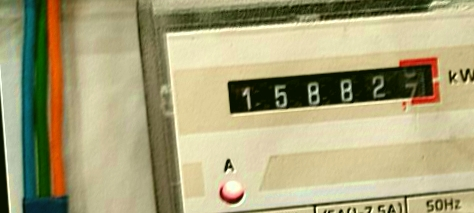1: (239, 83, 255, 112)
2: (370, 72, 388, 102)
5: (271, 82, 291, 110)
7: (403, 80, 420, 98)
8: (304, 79, 322, 108), (338, 76, 355, 105)
screen: (213, 49, 452, 128)
